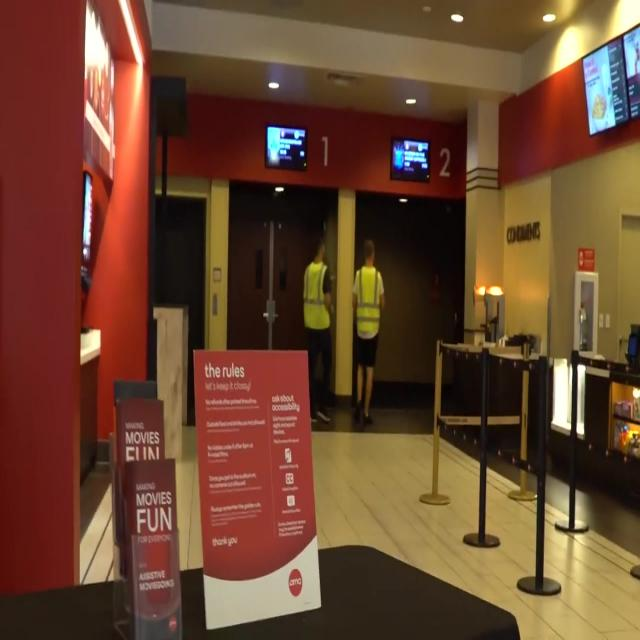Reflective-Jacket: (354, 265, 384, 341), (302, 260, 332, 332)
